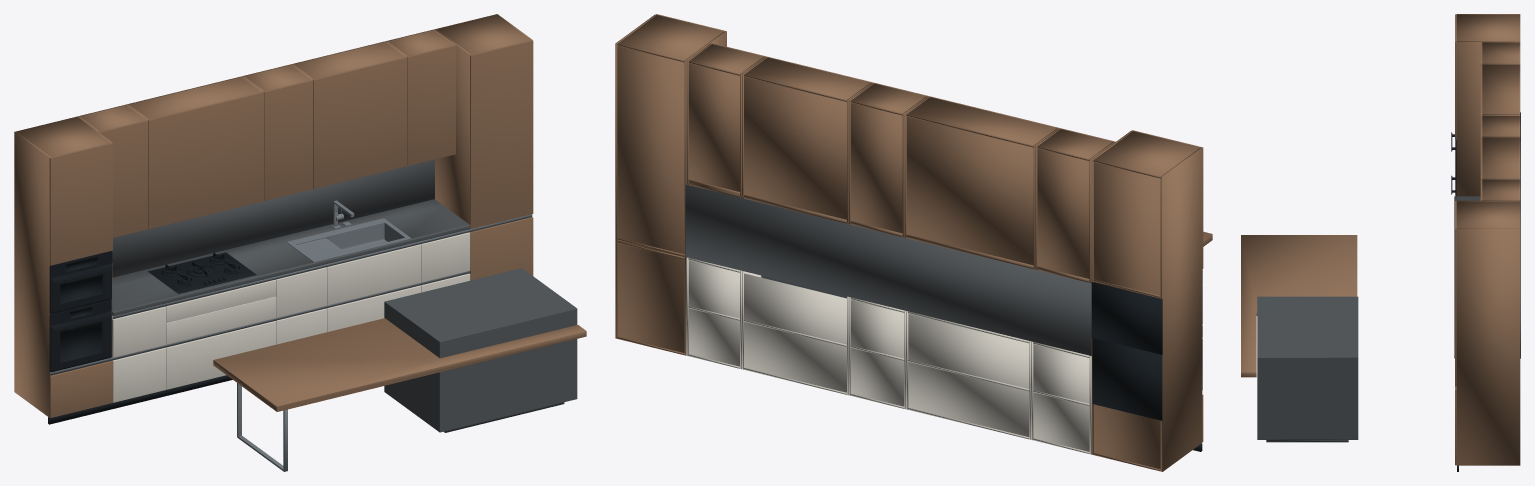
The model's file is kitchen-modern-25.glb.
3 renders of one model, left to right at view 1: azimuth 30°, elevation 25°; view 2: azimuth 150°, elevation 25°; view 3: azimuth 270°, elevation 25°, orthographic. The views are drawn at different scales.
Visible parts, largest first — view 1: Cabinets09, Cabinets04, Island_Part001, Cabinets08, Island_Sheet001, Backplate, TopSheet_Corian, Cabinets02, Cabinets06, Cabinets07, Oven_In001, Cabinets01 (+8 smaller); view 2: Cabinets09, Backplate, Cabinets04, Cabinets08, Cabinets02, Cabinets06, Cabinets07, Cabinets01, Cabinets03, Oven_In001, Macrowave_Warmer001; view 3: Cabinets08, Island_Part001, Island_Sheet001, Cabinets09, Cabinets04.
Boxes of the visible parts, x1,y1,x2,y2 form: Cabinets09: (77,29,455,237); Cabinets04: (14,116,112,417); Island_Part001: (384,268,577,432); Cabinets08: (435,14,533,280); Island_Sheet001: (213,318,586,411); Backplate: (112,159,434,277); TopSheet_Corian: (112,199,470,315); Cabinets02: (165,279,276,389); Cabinets06: (326,244,421,331); Cabinets07: (112,306,166,402); Oven_In001: (49,299,111,372); Cabinets01: (276,267,327,344); Cabinets09: (686,43,1115,283); Backplate: (685,184,1091,355); Cabinets04: (1091,130,1203,471); Cabinets08: (615,14,726,355); Cabinets02: (906,311,1031,439); Cabinets06: (742,271,848,395); Cabinets07: (1031,341,1091,454); Cabinets01: (848,297,905,409); Cabinets03: (686,257,741,369); Oven_In001: (1092,326,1202,420); Macrowave_Warmer001: (1091,270,1202,354); Cabinets08: (1455,200,1520,465); Island_Part001: (1257,296,1358,442); Island_Sheet001: (1241,235,1357,377); Cabinets09: (1480,42,1520,200); Cabinets04: (1455,14,1520,196).
Size of the model in its own units: 6 by 3.21 by 3.31.
